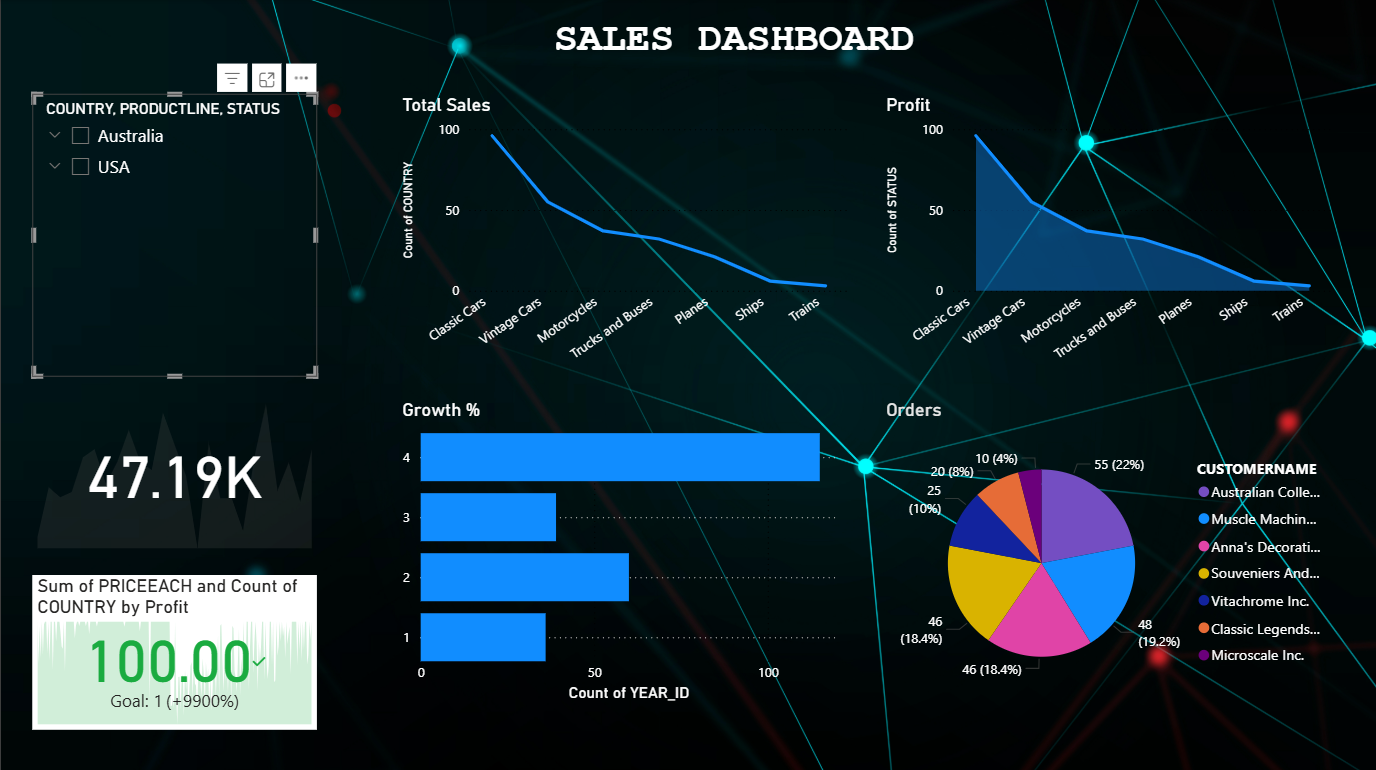

The page's visual inventory and layout, read from the dashboard file:
{"tool":"powerbi","page":{"name":"Page 1","canvas":[1280,720],"ordinal":0},"visuals":[{"type":"textbox","box":[225.6,10.5,890.7,54.7],"z":0},{"type":"kpi","fields":{"Indicator":["Sum(sales_data_sample.SALES)"],"TrendLine":["sales_data_sample.ORDERDATE"]},"box":[29.1,370.9,265.1,144.2],"z":1000},{"type":"slicer","fields":{"Values":["sales_data_sample.COUNTRY","sales_data_sample.PRODUCTLINE","sales_data_sample.STATUS"]},"box":[29.1,87.2,265.1,264],"z":2000},{"type":"kpi","fields":{"TrendLine":["sales_data_sample.Profit"],"Indicator":["Sum(sales_data_sample.PRICEEACH)"],"Goal":["CountNonNull(sales_data_sample.COUNTRY)"]},"box":[29.1,534.9,265.1,144.2],"z":3000},{"type":"lineChart","title":"Total Sales","fields":{"Category":["sales_data_sample.PRODUCTLINE"],"Y":["CountNonNull(sales_data_sample.COUNTRY)"]},"box":[368.6,87.2,424.4,260.5],"z":4000},{"type":"areaChart","title":"Profit","fields":{"Category":["sales_data_sample.PRODUCTLINE"],"Y":["CountNonNull(sales_data_sample.STATUS)"]},"box":[818.6,87.2,424.4,260.5],"z":5000},{"type":"barChart","title":"Growth %","fields":{"Y":["CountNonNull(sales_data_sample.YEAR_ID)"],"Category":["sales_data_sample.QTR_ID"]},"box":[368.6,370.9,424.4,287.2],"z":6000},{"type":"pieChart","title":"Orders","fields":{"Category":["sales_data_sample.CUSTOMERNAME"],"Y":["CountNonNull(sales_data_sample.COUNTRY)"]},"box":[819,371,424,287],"z":7000}]}

Visuals, with their boxes in screenshot pixels (x1, y1, x2, y2), scaled from the page's 1280x720 canvas onto the 1376x770 screenshot:
textbox: 243/11/1200/70
kpi - Sum(sales_data_sample.SALES) x sales_data_sample.ORDERDATE: 31/397/316/551
slicer - sales_data_sample.COUNTRY x sales_data_sample.PRODUCTLINE: 31/93/316/376
kpi - sales_data_sample.Profit x Sum(sales_data_sample.PRICEEACH): 31/572/316/726
"Total Sales" lineChart: 396/93/852/372
"Profit" areaChart: 880/93/1336/372
"Growth %" barChart: 396/397/852/704
"Orders" pieChart: 880/397/1336/704
